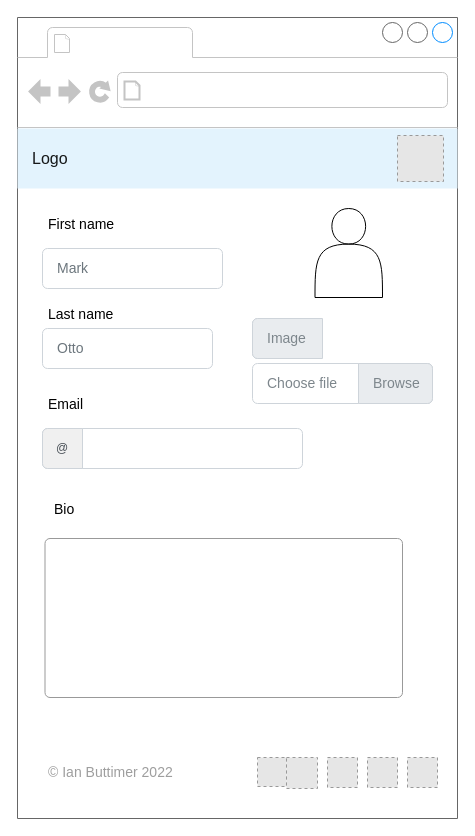
Some shapes in this 475 by 836 pixel diagram are drawn without their labels. Grey dashed boxes stand in for pictures. The shapes that lost their labels are listed below. From the top down, each one's centre as x and y in pixels, then its label:
At [132,42]: "Recipes 'N' Stuff".
At [272,90]: "https://recipesnstuff.herokuapp.com/".
At [223,618]: "Very interesting person".
